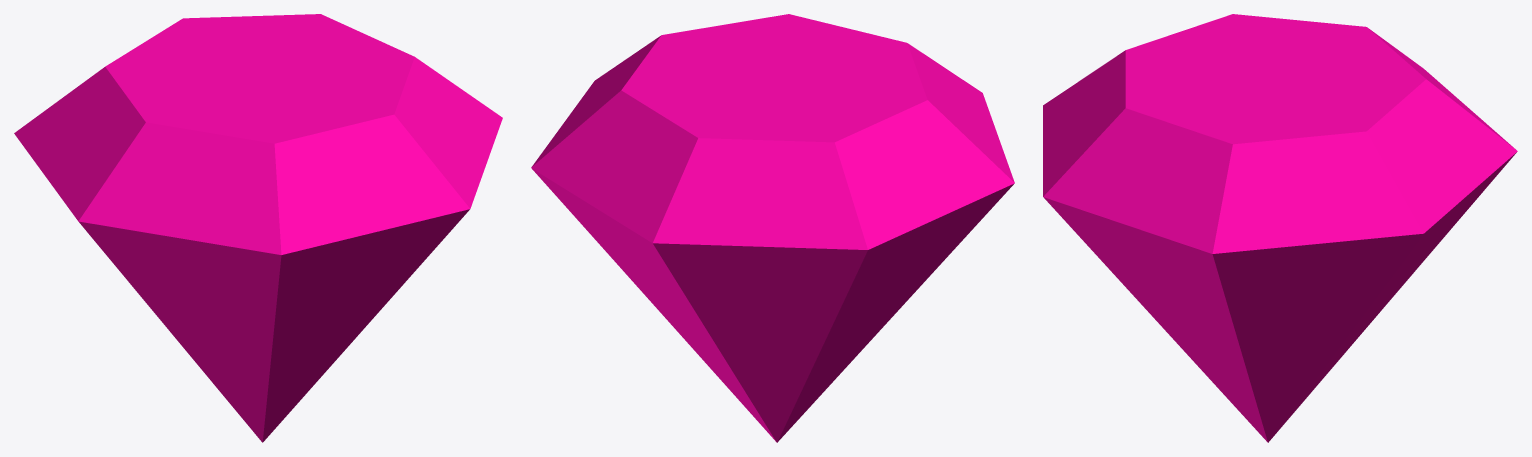
Rendered from gem4.fbx.
3 renders of one model, left to right at view 1: azimuth 30°, elevation 25°; view 2: azimuth 150°, elevation 25°; view 3: azimuth 270°, elevation 25°, orthographic.
Parts seen in each view (by area): view 1: Gem4; view 2: Gem4; view 3: Gem4.
Boxes of the visible parts, x1,y1,x2,y2 form: Gem4: [14, 14, 502, 442]; Gem4: [531, 14, 1014, 442]; Gem4: [1043, 14, 1517, 442].
Bounding box in the file's own units: 195 × 161 × 190.
